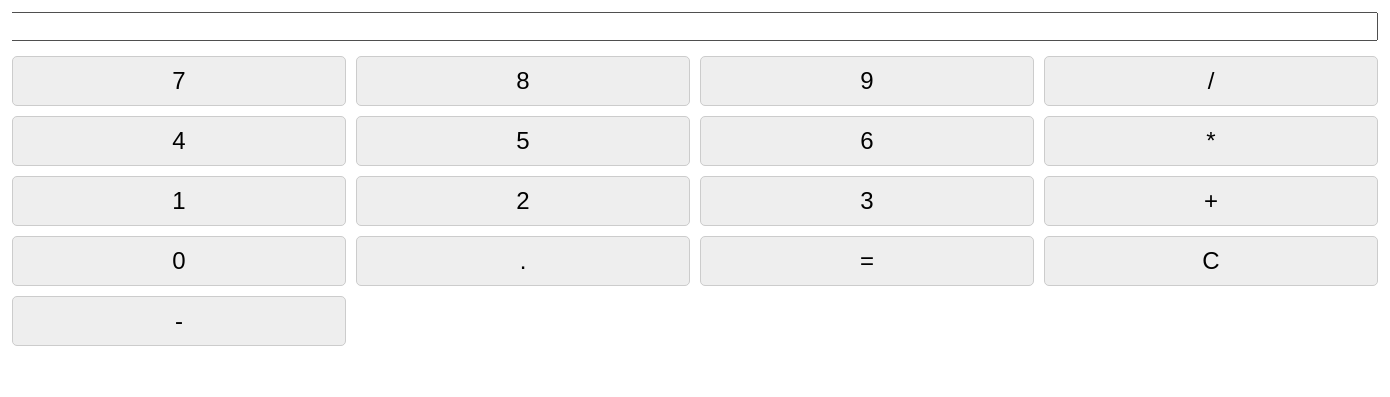
Test case: Calculadora E2E › Realiza operaciones de suma correctamente
In the field with placeholder "0": (695, 27) [12, 12, 1378, 41], type "5+3"
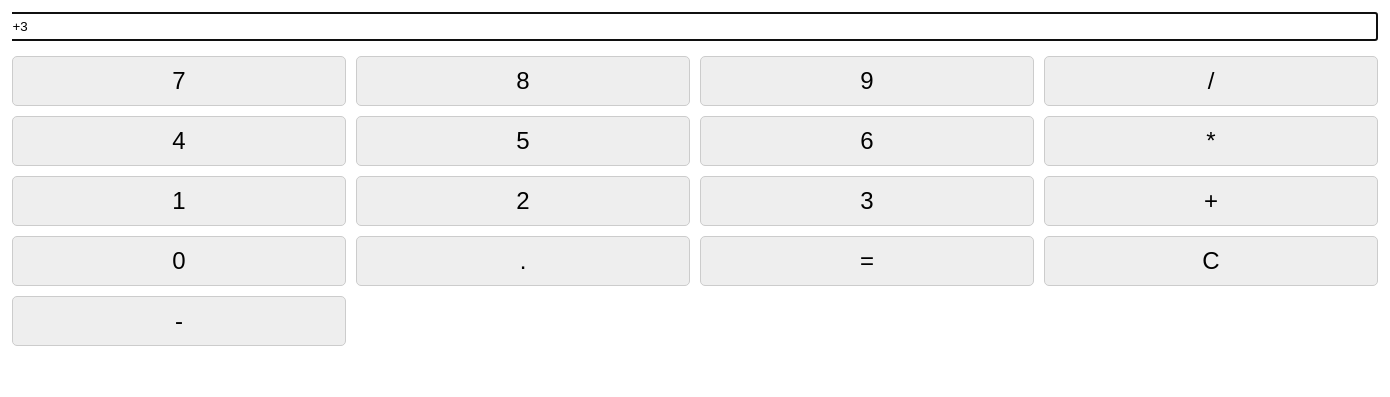
Click the button "=": (867, 261) [700, 236, 1034, 286]
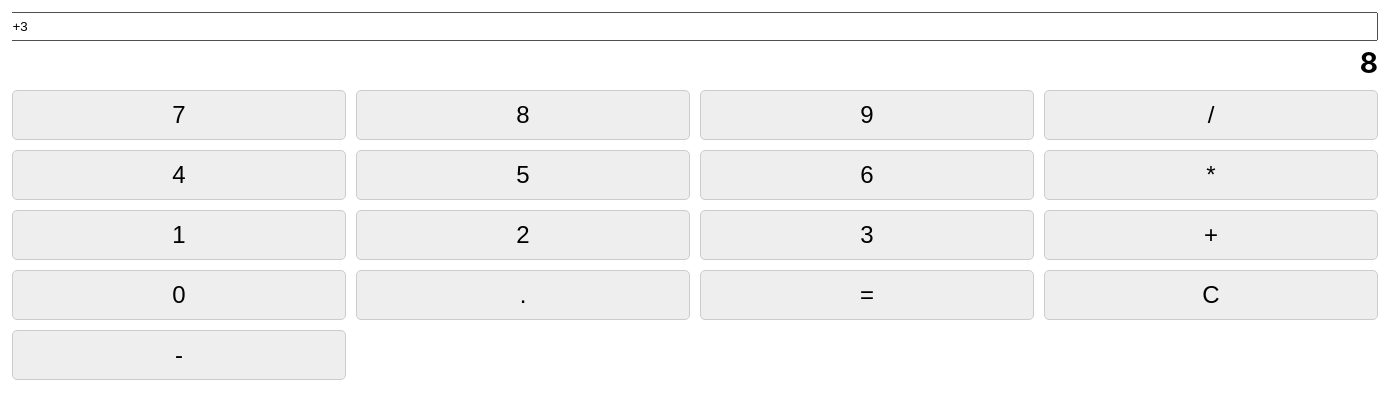
Now the text with test id "result" reads "8", box [1360, 46, 1378, 80]
